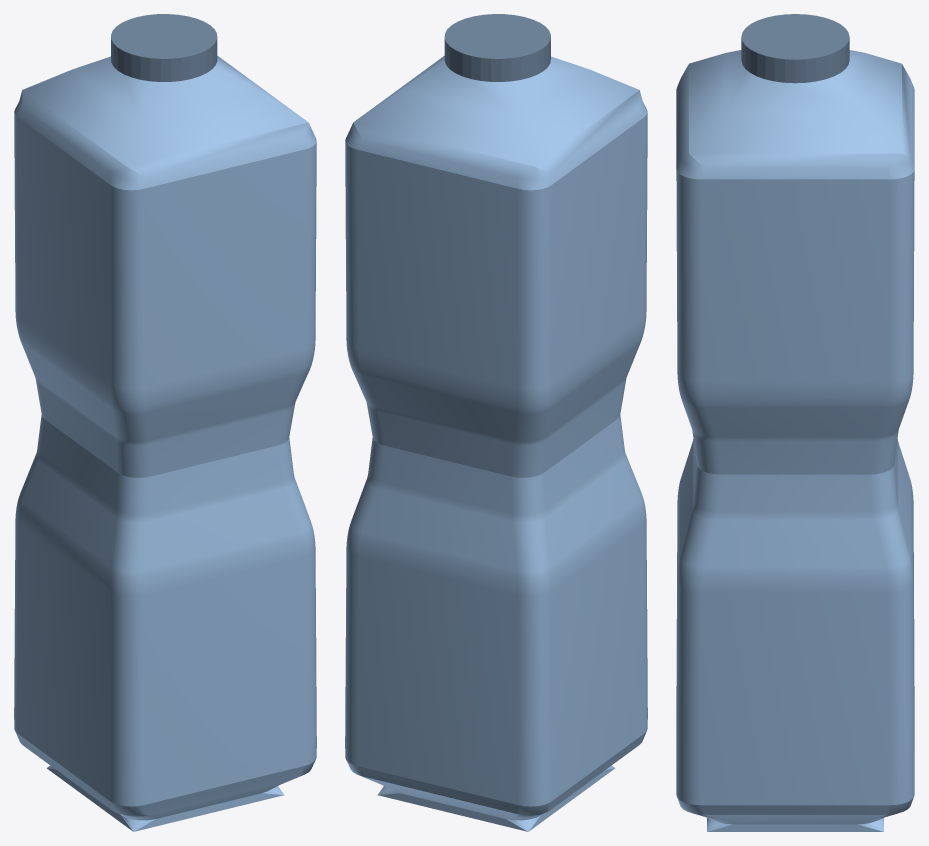
File: waterbottle.glb
3 views of the same model, side by side, from view 1: azimuth 30°, elevation 25°; view 2: azimuth 150°, elevation 25°; view 3: azimuth 270°, elevation 25° (orthographic).
Visible parts, largest first — view 1: Wasserflasche, WasserflascheDeckel; view 2: Wasserflasche, WasserflascheDeckel; view 3: Wasserflasche, WasserflascheDeckel.
Part boxes in pixels (x1,y1,x2,y2): Wasserflasche: (14,56,316,831); WasserflascheDeckel: (111,14,217,81); Wasserflasche: (345,56,647,831); WasserflascheDeckel: (444,14,550,81); Wasserflasche: (676,50,914,831); WasserflascheDeckel: (741,14,849,83).
Size of the model in its own units: 1.36 by 4.77 by 1.36.
